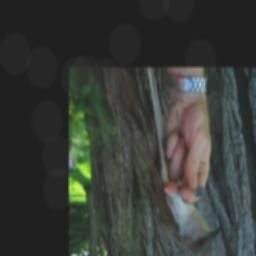Cuckoo: (140, 67, 224, 256)
